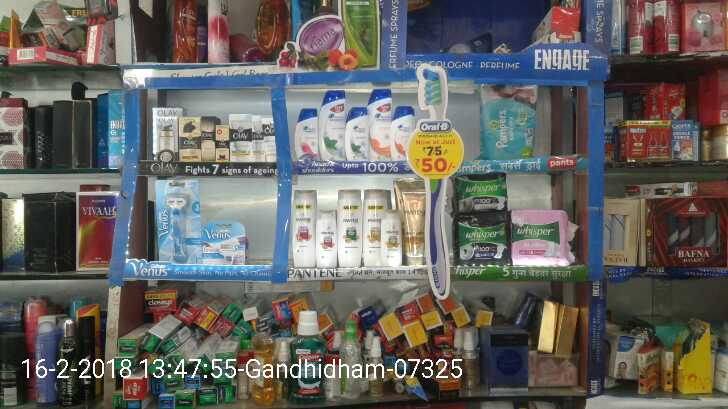venus: (157, 181, 200, 263), (200, 220, 244, 263)
